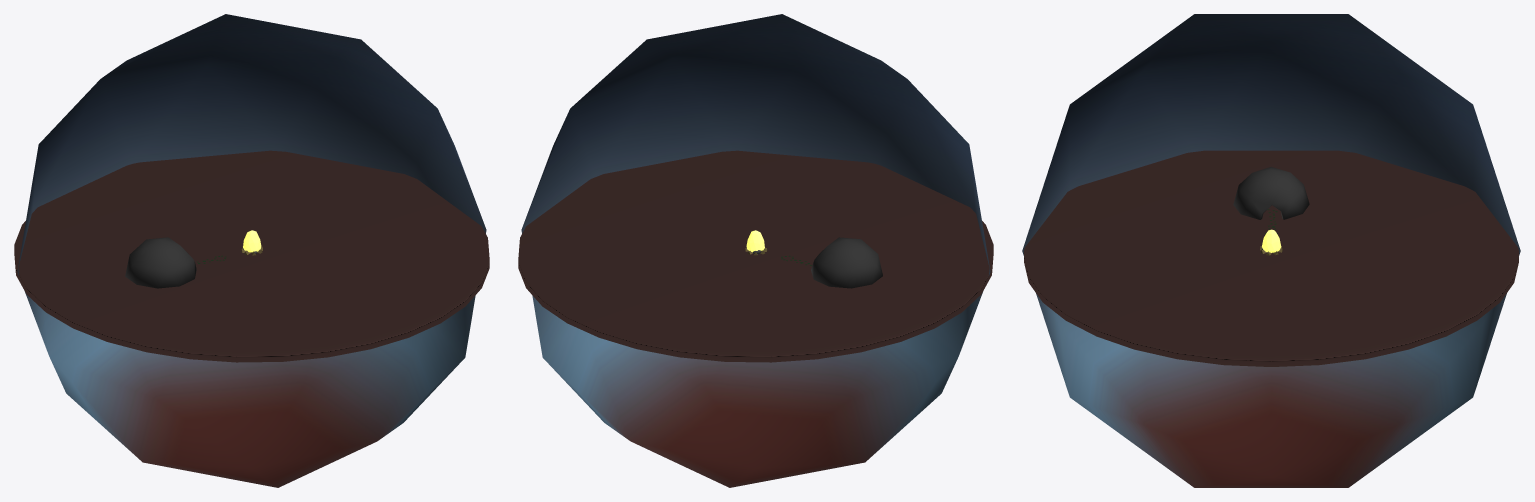
The picture shows the model from 3 angles, left to right: view 1: azimuth 30°, elevation 25°; view 2: azimuth 150°, elevation 25°; view 3: azimuth 270°, elevation 25°; orthographic projection. The views are drawn at different scales.
Visible parts, largest first — view 1: envirosphere.008, ground.010, lodge.008; view 2: envirosphere.008, ground.010, lodge.008; view 3: envirosphere.008, ground.010, lodge.008.
Part boxes in pixels (left/top/right/bottom): envirosphere.008: left=17, top=14, right=486, bottom=487; ground.010: left=14, top=150, right=489, bottom=362; lodge.008: left=125, top=237, right=196, bottom=288; envirosphere.008: left=521, top=14, right=990, bottom=487; ground.010: left=518, top=150, right=993, bottom=362; lodge.008: left=811, top=237, right=882, bottom=288; envirosphere.008: left=1022, top=14, right=1520, bottom=487; ground.010: left=1024, top=150, right=1518, bottom=366; lodge.008: left=1233, top=167, right=1309, bottom=219.
Bounding box in the file's own units: 13.58 × 13.69 × 13.69.
Materials: 8 (1 with a texture image).
